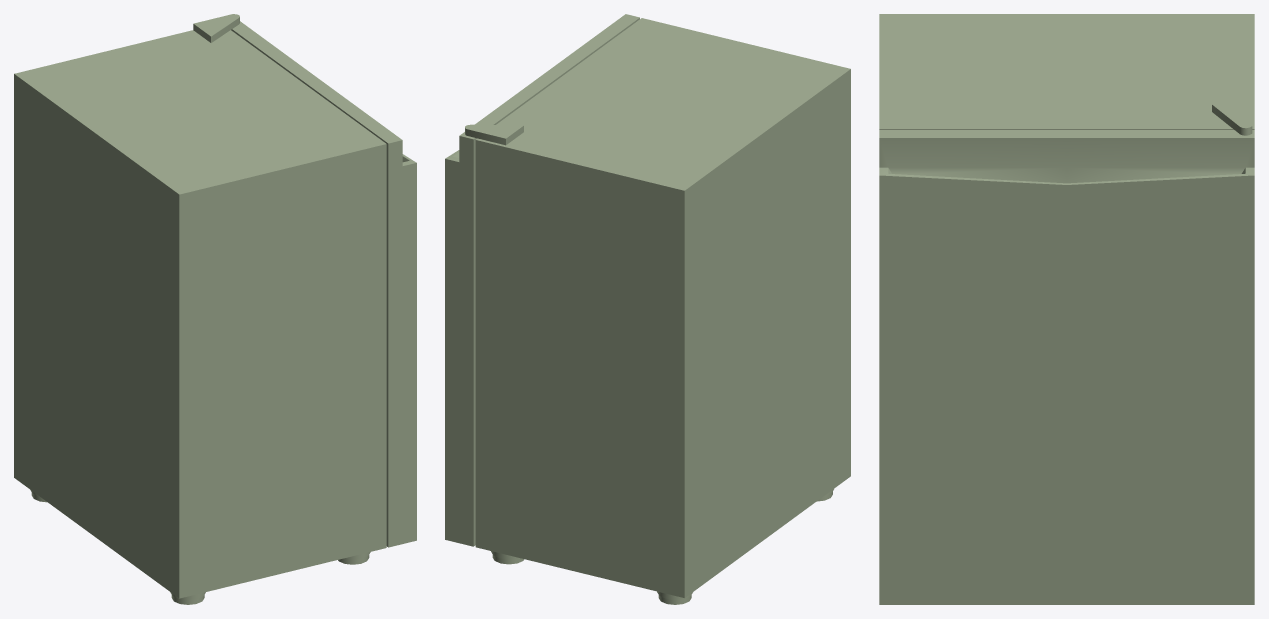
Rendered from Freezer.dae.
3 renders of one model, left to right at view 1: azimuth 30°, elevation 25°; view 2: azimuth 150°, elevation 25°; view 3: azimuth 270°, elevation 25°, orthographic. The views are drawn at different scales.
Parts seen in each view (by area): view 1: FreeZer_01, FreeZer_02; view 2: FreeZer_01, FreeZer_02; view 3: FreeZer_02, FreeZer_01.
Boxes of the visible parts, <box> form: FreeZer_01: <box>14,14,386,604</box>; FreeZer_02: <box>231,21,416,547</box>; FreeZer_01: <box>465,18,850,604</box>; FreeZer_02: <box>445,14,639,546</box>; FreeZer_02: <box>879,130,1254,604</box>; FreeZer_01: <box>879,14,1254,135</box>.
Bounding box in the file's own units: 33.23 × 56.87 × 40.02.
